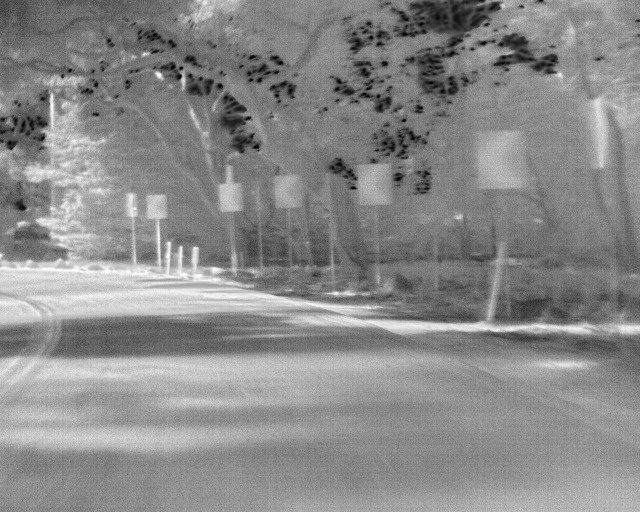car: (0, 224, 77, 267)
